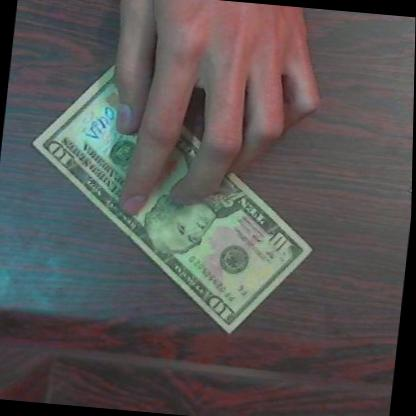ten-front: (12, 57, 333, 342)
